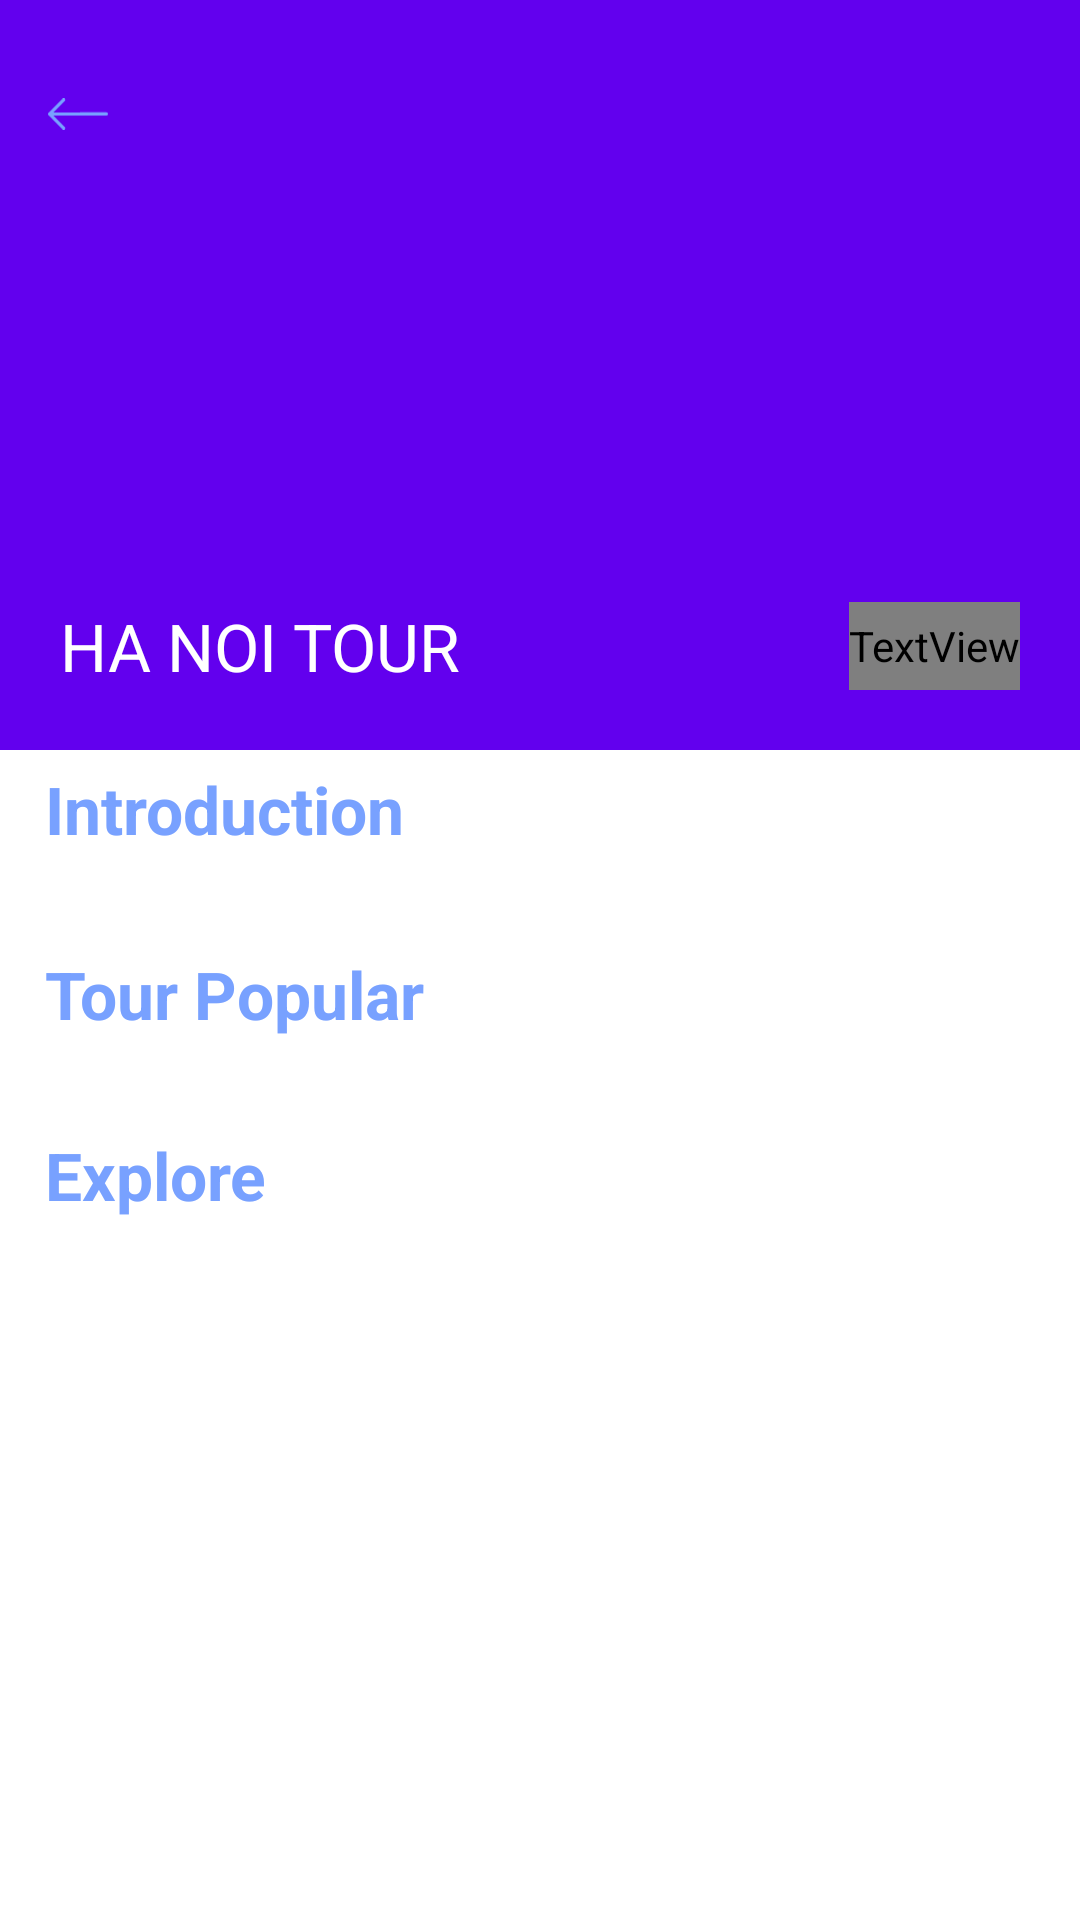

Icons on this 1080w x 1920h Android screen, each with its box as bbox=(x1, y1, x2, y2):
left arrow: bbox=(48, 98, 108, 130)
